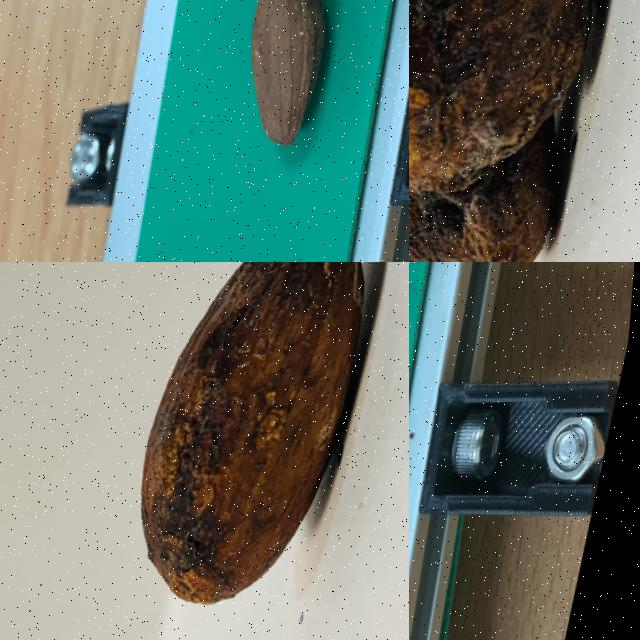Agglomerated_cocoabeans: (409, 0, 639, 261), (409, 262, 469, 587)
Fine_cocoabeans: (71, 262, 408, 639), (185, 0, 391, 246)
